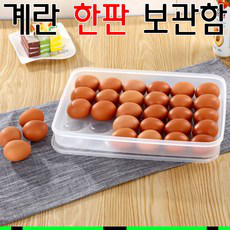egg: (67, 75, 220, 145), (1, 107, 49, 163)
